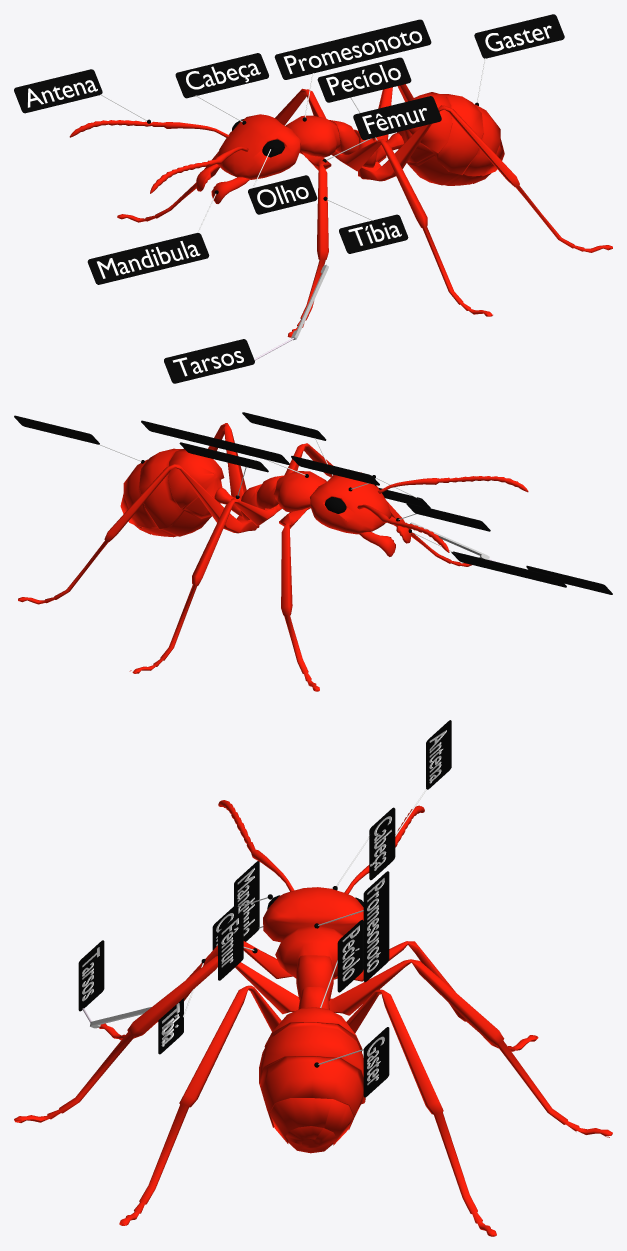
The model's file is formiga_vista_cima.obj.
3 views of the same model, one above another, from view 1: azimuth 30°, elevation 25°; view 2: azimuth 150°, elevation 25°; view 3: azimuth 270°, elevation 25° (orthographic). The views are drawn at different scales.
Parts seen in each view (by area): view 1: Formica._Mesh_0.001, Plane.008_Plane.009, Plane.005, Plane.001, Plane.010_Plane.011, Plane.003_Plane.012, Plane.009_Plane.010, Plane.002, Plane, Plane.007, Plane.006, Text.008_label1.009 (+7 smaller); view 2: Formica._Mesh_0.001, Plane.008_Plane.009, Plane.005, Plane.001, Plane.010_Plane.011, Plane.009_Plane.010, Plane, Plane.002, Plane.003_Plane.012, Plane.006; view 3: Formica._Mesh_0.001, Plane.008_Plane.009, Plane.003_Plane.012, Plane.001, Plane.010_Plane.011, Plane.009_Plane.010, Plane.005, Plane.002, Plane, Text.008_label1.009, Plane.007.
Part boxes in pixels (<box>): Formica._Mesh_0.001: <box>69,84,612,337</box>; Plane.008_Plane.009: <box>274,19,431,79</box>; Plane.005: <box>87,233,209,284</box>; Plane.001: <box>175,53,268,98</box>; Plane.010_Plane.011: <box>317,57,411,102</box>; Plane.003_Plane.012: <box>164,339,254,383</box>; Plane.009_Plane.010: <box>474,14,564,58</box>; Plane.002: <box>353,96,441,139</box>; Plane: <box>14,69,102,113</box>; Plane.007: <box>339,214,408,253</box>; Plane.006: <box>248,175,317,214</box>; Text.008_label1.009: <box>283,31,422,74</box>; Formica._Mesh_0.001: <box>18,423,528,691</box>; Plane.008_Plane.009: <box>141,420,289,464</box>; Plane.005: <box>451,551,566,587</box>; Plane.001: <box>291,456,379,485</box>; Plane.010_Plane.011: <box>179,442,268,472</box>; Plane.009_Plane.010: <box>14,415,99,444</box>; Plane: <box>406,503,490,531</box>; Plane.002: <box>242,412,326,440</box>; Plane.003_Plane.012: <box>526,565,612,594</box>; Plane.006: <box>378,487,430,508</box>; Formica._Mesh_0.001: <box>14,800,612,1236</box>; Plane.008_Plane.009: <box>363,871,389,982</box>; Plane.003_Plane.012: <box>78,940,104,1011</box>; Plane.001: <box>369,807,395,880</box>; Plane.010_Plane.011: <box>337,919,363,992</box>; Plane.009_Plane.010: <box>363,1027,389,1097</box>; Plane.005: <box>234,861,259,941</box>; Plane.002: <box>218,911,243,980</box>; Plane: <box>426,720,451,789</box>; Text.008_label1.009: <box>367,878,384,972</box>; Plane.007: <box>158,998,183,1054</box>.
Size of the model in its own units: 3.41 by 1.2 by 2.73.
